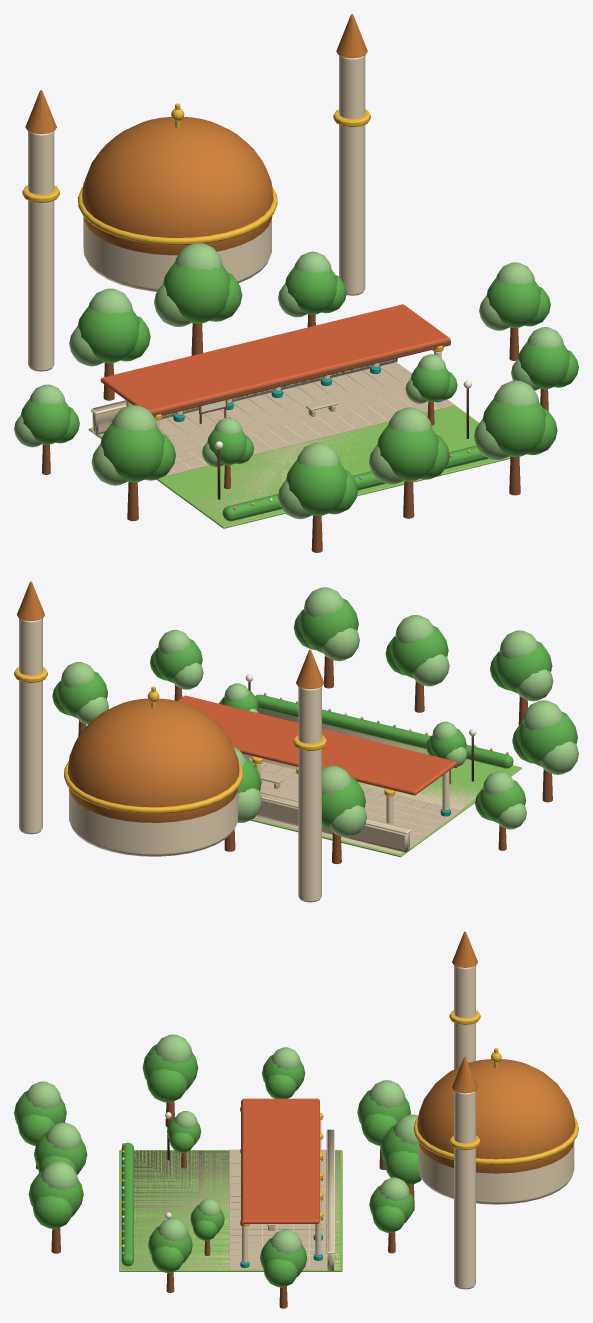
The model's file is mosque_walkway.glb.
3 views of the same model, one above another, from view 1: azimuth 30°, elevation 25°; view 2: azimuth 150°, elevation 25°; view 3: azimuth 270°, elevation 25° (orthographic). The views are drawn at different scales.
Visible parts, largest first — view 1: Dome.002, Roof, Walkway, Floor.002, Minaret0.002, Minaret1.002, DomeDrum.002, Floor-colonly.002, Tree1Leaf0.008, Tree8Leaf0.008, Tree5Leaf0.008, Tree0Leaf0.008 (+23 smaller); view 2: Dome.002, Roof, DomeDrum.002, Minaret0.002, Minaret1.002, Walkway, HedgeFront, Floor.002, Floor-colonly.002, Tree8Leaf0.008, Tree5Leaf0.008, Tree4Leaf0.008 (+29 smaller); view 3: Dome.002, Roof, Floor.002, Floor-colonly.002, DomeDrum.002, Minaret1.002, Walkway, Minaret0.002, HedgeFront, DomeRing.001, Tree8Leaf2.008, Tree5Leaf2.008 (+30 smaller).
Boxes of the visible parts, x1,y1,x2,y2 form: Dome.002: [82, 116, 273, 255]; Roof: [100, 304, 449, 412]; Walkway: [99, 362, 455, 476]; Floor.002: [88, 362, 510, 528]; Minaret0.002: [28, 131, 54, 371]; Minaret1.002: [339, 55, 365, 295]; DomeDrum.002: [83, 216, 271, 291]; Floor-colonly.002: [178, 362, 451, 525]; Tree1Leaf0.008: [163, 262, 230, 323]; Tree8Leaf0.008: [100, 423, 164, 482]; Tree5Leaf0.008: [482, 398, 546, 456]; Tree0Leaf0.008: [77, 306, 139, 363]; Dome.002: [67, 698, 239, 822]; Roof: [178, 695, 456, 795]; DomeDrum.002: [69, 788, 238, 856]; Minaret0.002: [298, 686, 321, 902]; Minaret1.002: [19, 618, 42, 834]; Walkway: [248, 758, 461, 847]; HedgeFront: [255, 694, 513, 768]; Floor.002: [250, 734, 521, 857]; Floor-colonly.002: [242, 708, 482, 854]; Tree8Leaf0.008: [517, 711, 577, 766]; Tree5Leaf0.008: [299, 598, 358, 652]; Tree4Leaf0.008: [390, 625, 448, 678]; Dome.002: [417, 1059, 575, 1173]; Roof: [242, 1098, 319, 1223]; Floor.002: [119, 1150, 342, 1271]; Floor-colonly.002: [121, 1150, 340, 1269]; DomeDrum.002: [418, 1141, 574, 1204]; Minaret1.002: [454, 1090, 475, 1289]; Walkway: [229, 1149, 325, 1269]; Minaret0.002: [454, 965, 475, 1069]; HedgeFront: [121, 1142, 133, 1266]; DomeRing.001: [413, 1117, 578, 1165]; Tree8Leaf2.008: [147, 1069, 187, 1102]; Tree5Leaf2.008: [33, 1195, 73, 1228].
Size of what is drawn, in the model's own units: 32.24 by 16.32 by 36.2.
